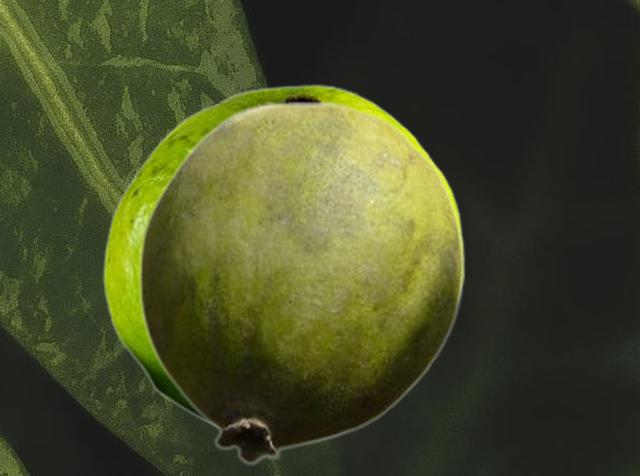guava: (102, 84, 463, 443), (137, 100, 465, 464)
